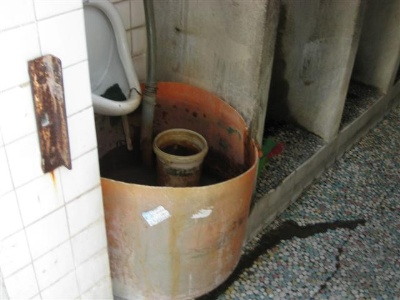bucket: (94, 80, 259, 300), (152, 127, 209, 186)
toilet: (85, 1, 144, 117)
